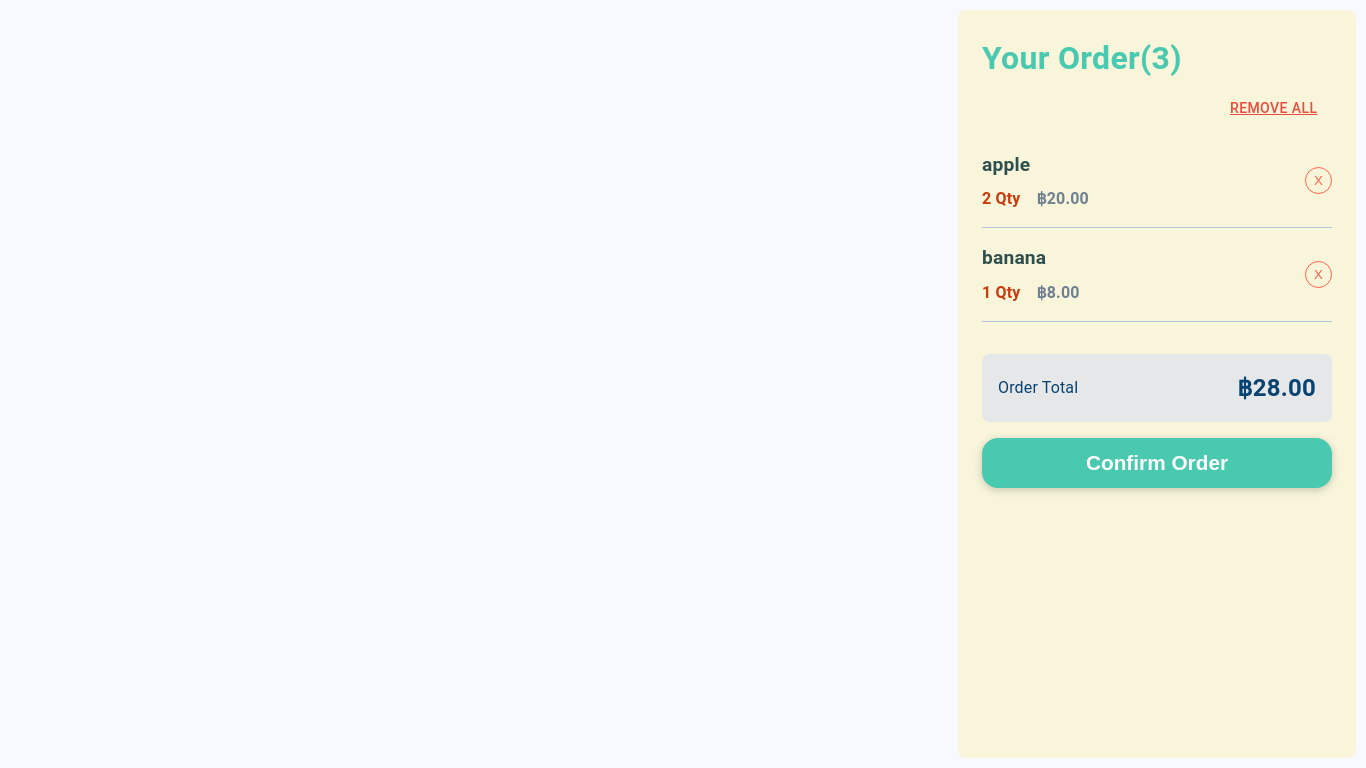
Test: Cart Component - ClearCart › TC4: Should keep items in cart when clicking "No" on confirmation
Click the button "Remove all" at (1274,108), box [1222,90,1325,126]
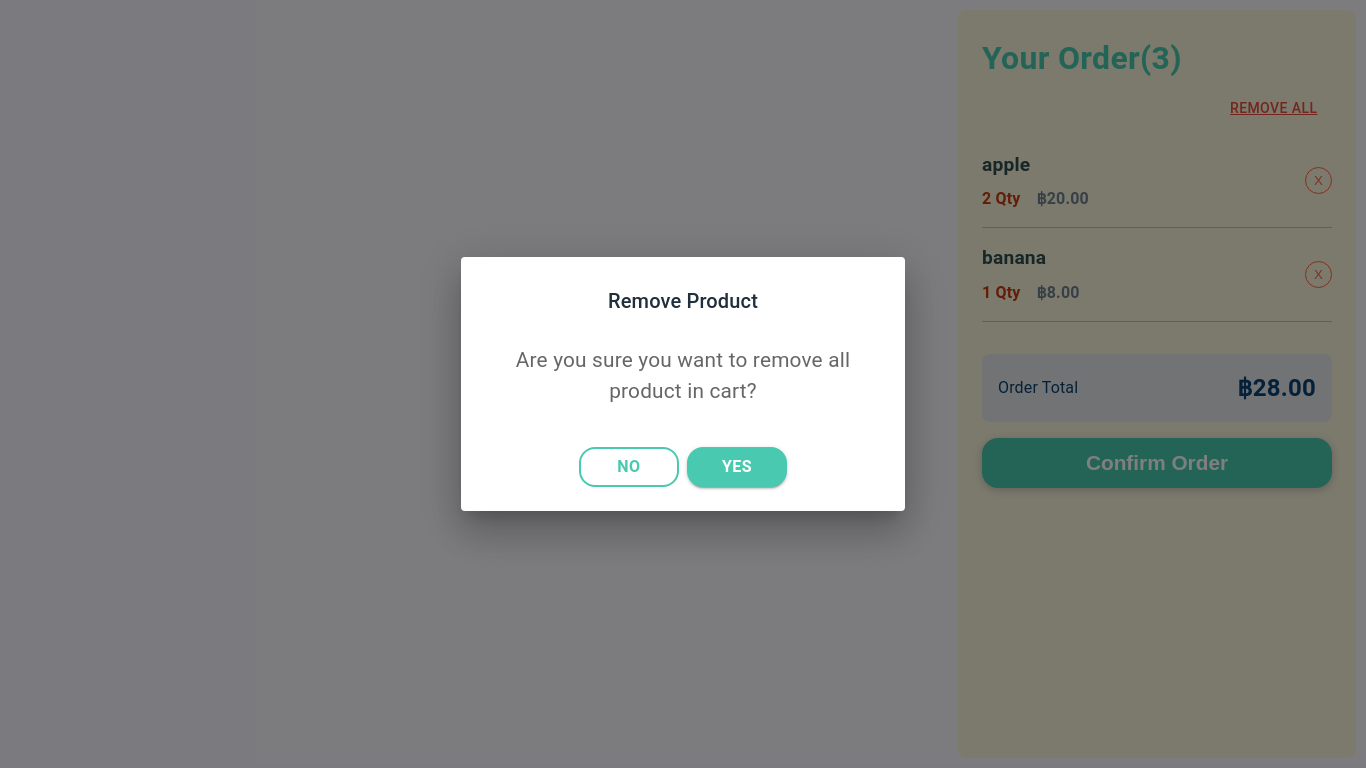
Click the button "No" at (629,467), box [579,447,679,487]
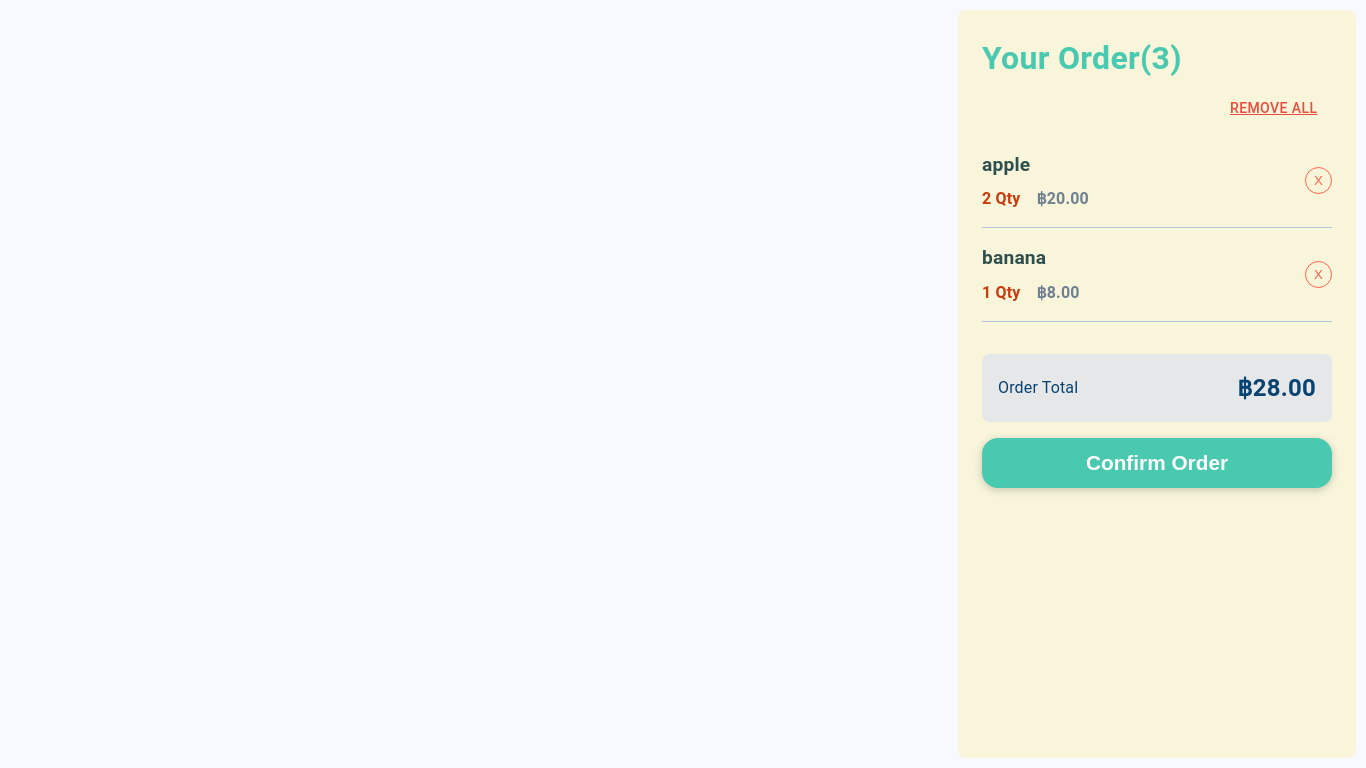
Now the heading "Remove Product" is gone
